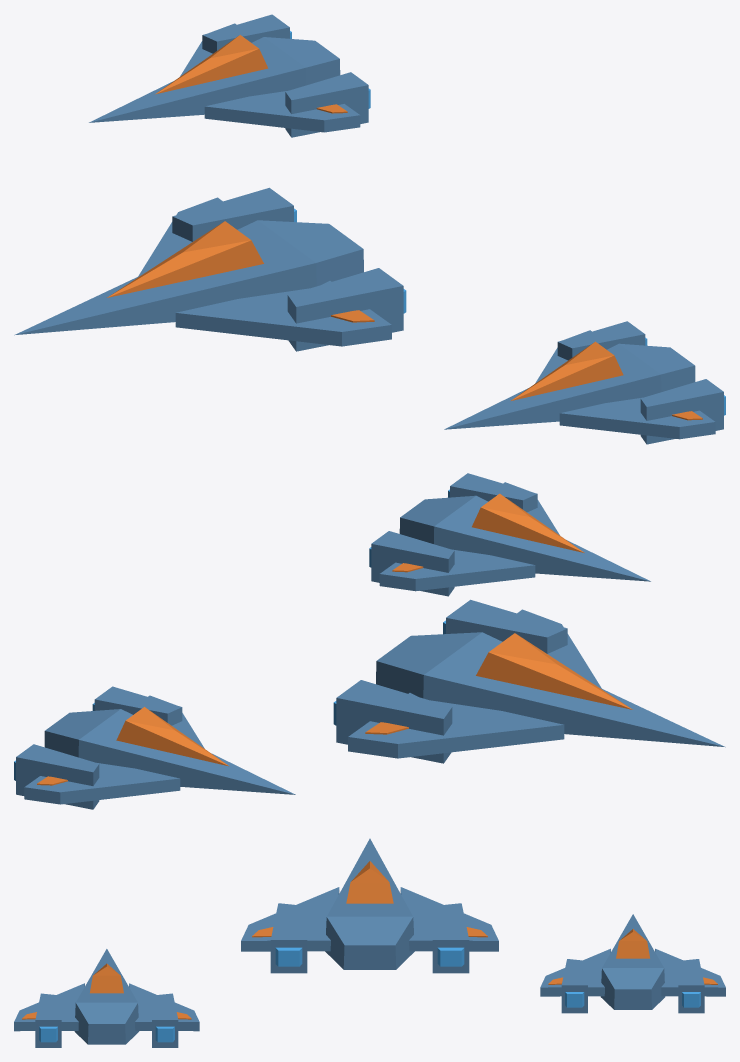
The model's file is Patrol.gltf.
3 views of the same model, one above another, from view 1: azimuth 30°, elevation 25°; view 2: azimuth 150°, elevation 25°; view 3: azimuth 270°, elevation 25° (orthographic). The views are drawn at different scales.
Visible parts, largest first — view 1: Patrol lead, Port escort, Starboard escort; view 2: Patrol lead, Starboard escort, Port escort; view 3: Patrol lead, Starboard escort, Port escort.
Part boxes in pixels (left/top/right/bottom): Patrol lead: left=14, top=187, right=406, bottom=351; Port escort: left=444, top=321, right=725, bottom=444; Starboard escort: left=89, top=14, right=370, bottom=137; Patrol lead: left=333, top=599, right=725, bottom=763; Starboard escort: left=14, top=686, right=295, bottom=809; Port escort: left=369, top=473, right=650, bottom=596; Patrol lead: left=241, top=838, right=498, bottom=973; Starboard escort: left=540, top=914, right=725, bottom=1013; Port escort: left=14, top=949, right=199, bottom=1047.
Size of the model in its own units: 4.95 by 1.05 by 8.39.
